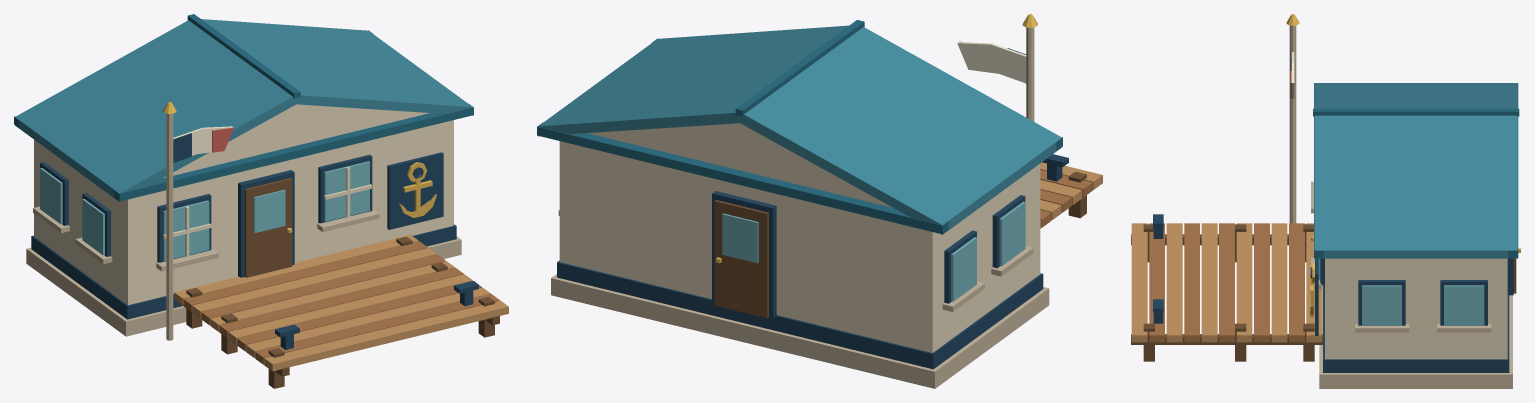
Rendered from marina-captaincy.glb.
3 renders of one model, left to right at view 1: azimuth 30°, elevation 25°; view 2: azimuth 150°, elevation 25°; view 3: azimuth 270°, elevation 25°, orthographic. The views are drawn at different scales.
Visible parts, largest first — view 1: MarinaCaptaincy; view 2: MarinaCaptaincy; view 3: MarinaCaptaincy.
Boxes of the visible parts, x1,y1,x2,y2 form: MarinaCaptaincy: (14,14,508,388); MarinaCaptaincy: (537,14,1102,388); MarinaCaptaincy: (1131,14,1520,388).
Bounding box in the file's own units: 8.7 × 5.55 × 8.54.
1 material, 1 textured.
